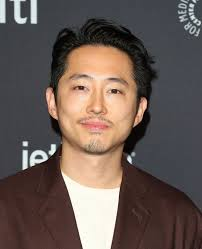asian_male: (45, 27, 153, 163)
